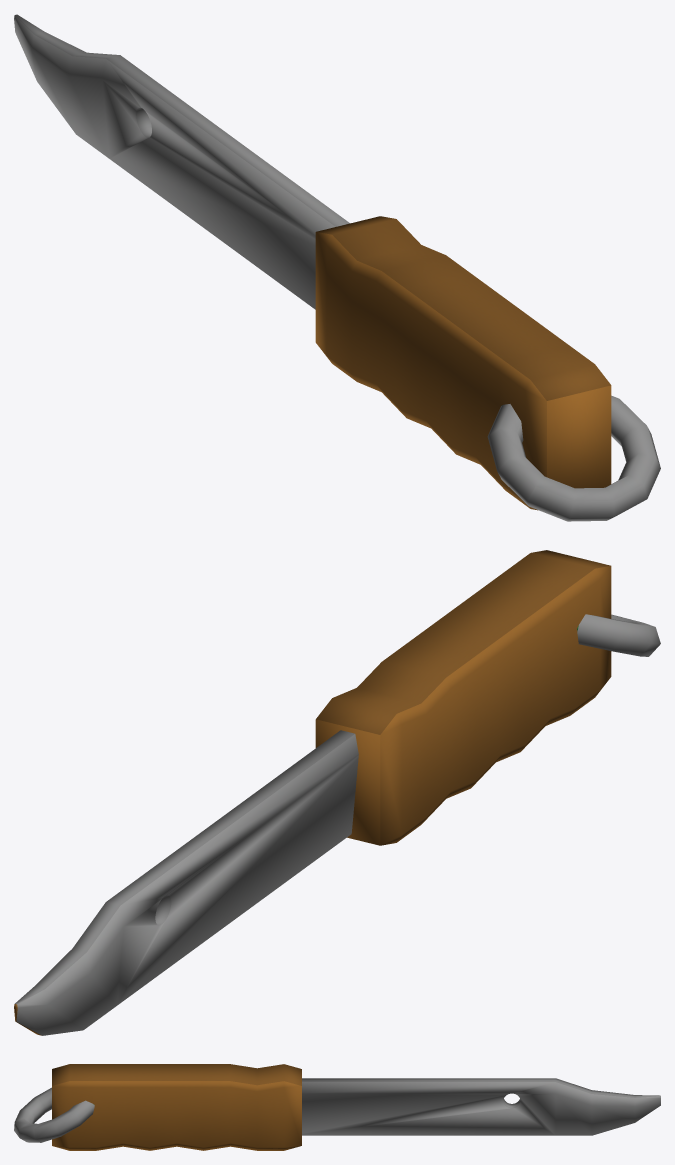
File: Knife.fbx
3 renders of one model, top to bottom at view 1: azimuth 30°, elevation 25°; view 2: azimuth 150°, elevation 25°; view 3: azimuth 270°, elevation 25°, orthographic. The views are drawn at different scales.
Visible parts, largest first — view 1: Torus; view 2: Torus; view 3: Torus.
Boxes of the visible parts, x1,y1,x2,y2 form: Torus: [14, 14, 660, 521]; Torus: [14, 550, 660, 1035]; Torus: [14, 1064, 660, 1150].
Bounding box in the file's own units: 250 × 1681 × 200.
1 material, 1 textured.
